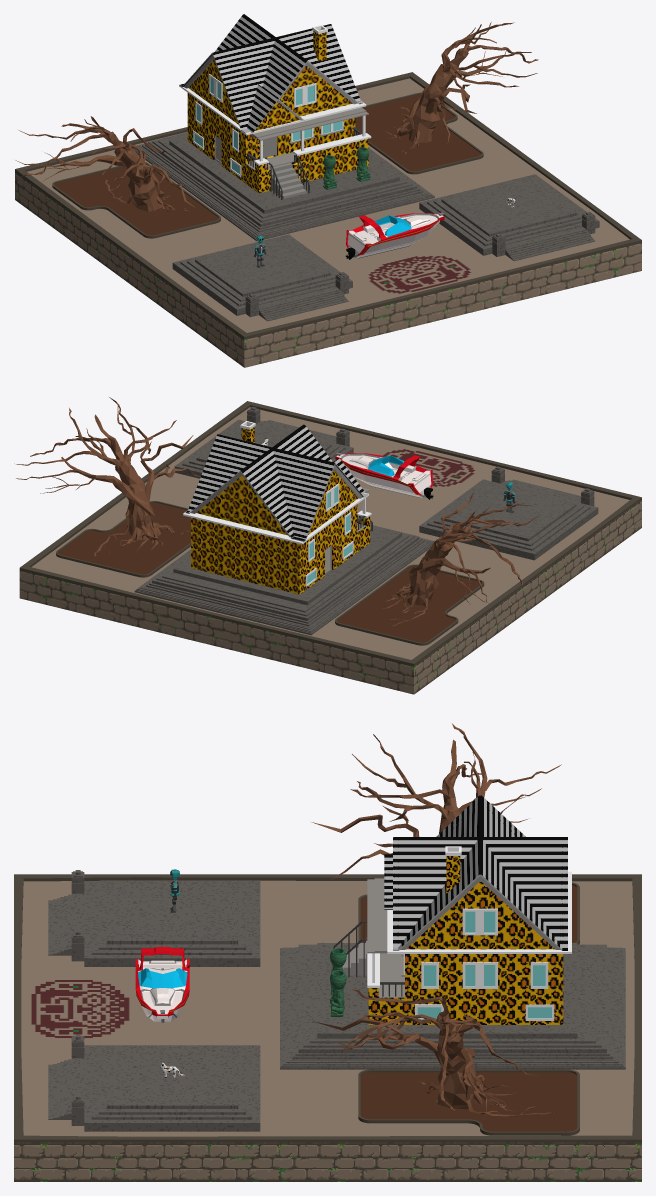
3 renders of one model, top to bottom at view 1: azimuth 30°, elevation 25°; view 2: azimuth 150°, elevation 25°; view 3: azimuth 270°, elevation 25°, orthographic. The views are drawn at different scales.
Visible parts, largest first — view 1: Cube.011, Cube.637, VEHICLES_BOAT; view 2: Cube.011, Cube.637, VEHICLES_BOAT; view 3: Cube.011, Cube.637, VEHICLES_BOAT.
Boxes of the visible parts, left/top/right/bottom form: Cube.011: left=15, top=22, right=641, bottom=367; Cube.637: left=179, top=14, right=371, bottom=199; VEHICLES_BOAT: left=345, top=212, right=444, bottom=259; Cube.011: left=14, top=397, right=641, bottom=694; Cube.637: left=183, top=421, right=372, bottom=594; VEHICLES_BOAT: left=335, top=452, right=433, bottom=499; Cube.011: left=14, top=723, right=641, bottom=1181; Cube.637: left=333, top=795, right=571, bottom=1024; VEHICLES_BOAT: left=135, top=947, right=189, bottom=1022.
Size of the model in its own units: 5099 by 1659 by 4000.
Materials: 33 (6 with a texture image).
